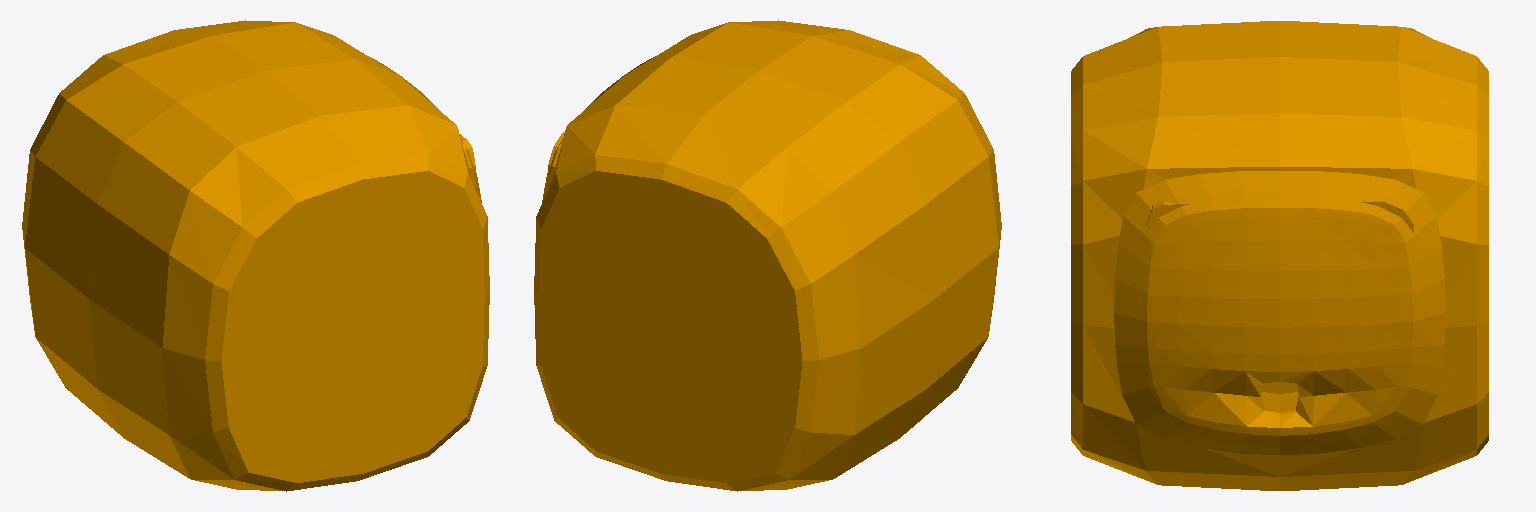
URDF robot description (TeaCup):
<?xml version="1.0" ?>
<robot name="TeaCup">
  <link name="TeaCupLink">
    <visual>
      <geometry>
           <mesh filename="head.obj" scale="0.2 0.2 0.2"/>
      </geometry>
       <!--<material name="Material.001">
        <color rgba="1 0 0 1"/>
      </material>-->
      <!--<material></material>-->
    </visual>
    <collision>
      <geometry>
	 	<mesh filename="head.obj" scale="0.2 0.2 0.2"/>
      </geometry>
    </collision>
  </link>
</robot>

--- Render facts (derived) ---
3 views of the same robot in one strip: view 1: azimuth 30°, elevation 25°; view 2: azimuth 150°, elevation 25°; view 3: azimuth 270°, elevation 25° (orthographic).
Model TeaCup with 1 links and 0 joints (none), rooted at TeaCupLink, posed all joints at 0.
Links seen in each view (by area): view 1: TeaCupLink; view 2: TeaCupLink; view 3: TeaCupLink.
Link boxes in pixels (x1,y1,x2,y2): TeaCupLink: (22,20,489,491); TeaCupLink: (534,20,1001,491); TeaCupLink: (1071,21,1488,490).
Bounding box of the posed robot: 0.8041 × 0.7789 × 0.8201 m (x, y, z).
1 mesh visuals loaded from 1 distinct referenced files (1 OBJ).